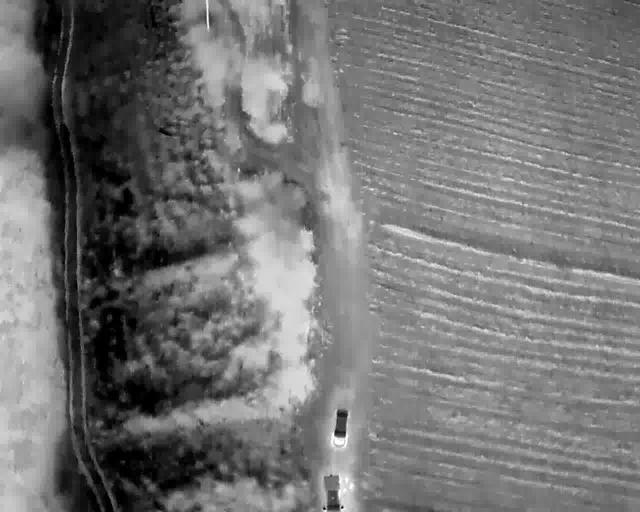car: (321, 474, 344, 512), (332, 408, 349, 447)
person: (348, 482, 354, 492)
